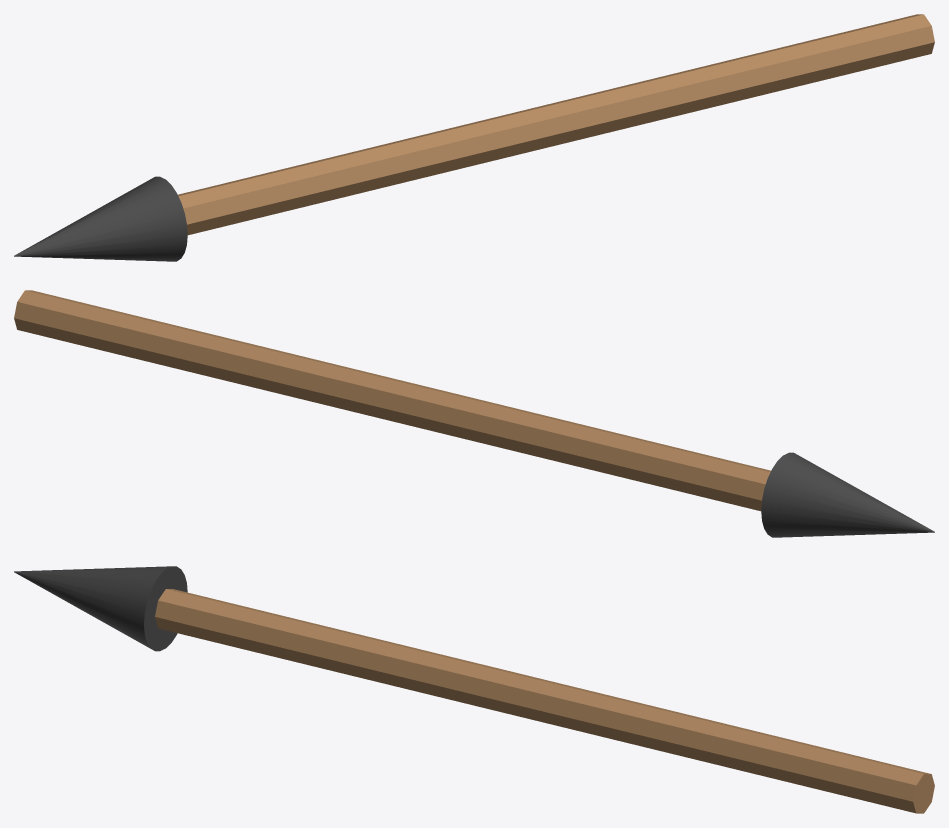
The model's file is Spear.fbx.
3 renders of one model, top to bottom at view 1: azimuth 30°, elevation 25°; view 2: azimuth 150°, elevation 25°; view 3: azimuth 330°, elevation 25°, orthographic.
Visible parts, largest first — view 1: mergedBlocks; view 2: mergedBlocks; view 3: mergedBlocks.
Part boxes in pixels (bbox=[...]): mergedBlocks: bbox=[14, 14, 934, 261]; mergedBlocks: bbox=[14, 290, 934, 537]; mergedBlocks: bbox=[14, 566, 934, 813].
Bounding box in the file's own units: 12 × 1 × 1.
